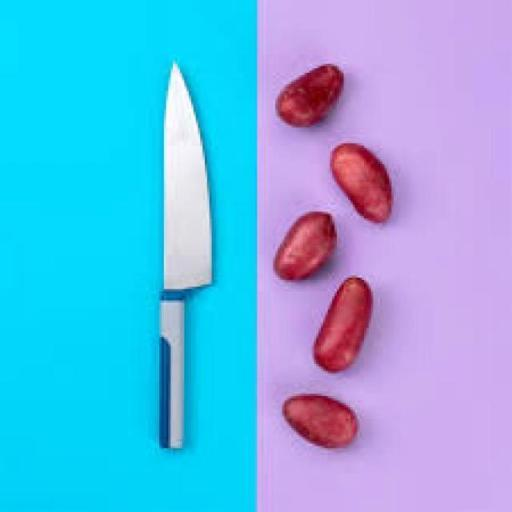knife: (98, 66, 248, 488)
